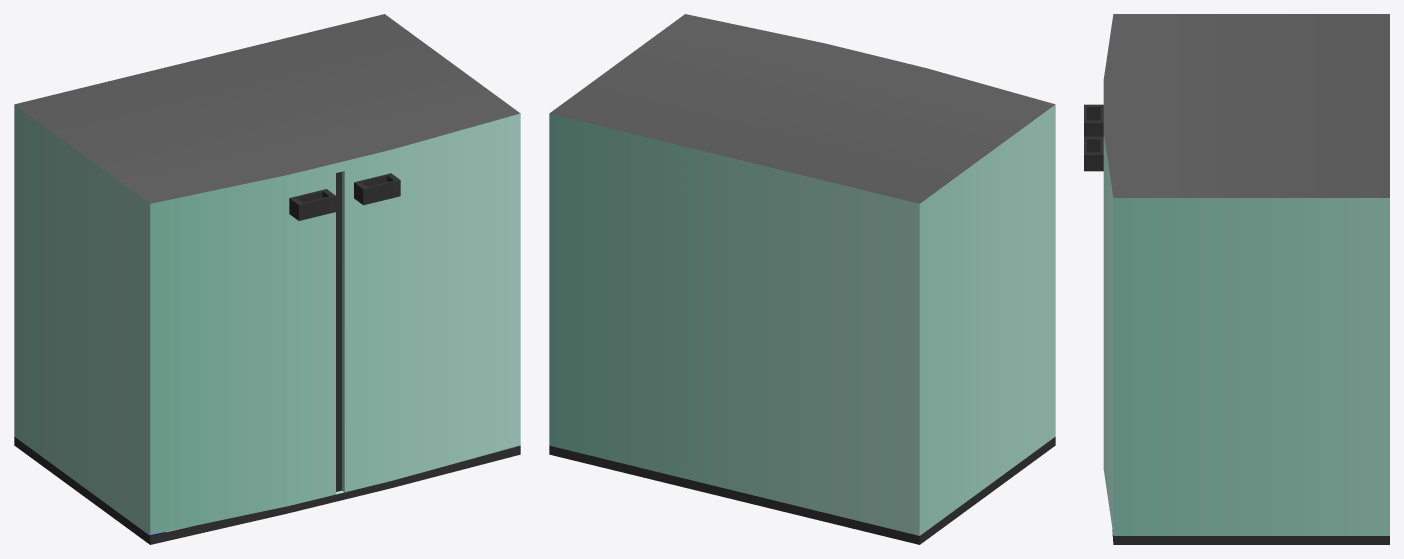
The model's file is Countertop con UV.fbx.
3 views of the same model, side by side, from view 1: azimuth 30°, elevation 25°; view 2: azimuth 150°, elevation 25°; view 3: azimuth 270°, elevation 25° (orthographic).
Visible parts, largest first — view 1: Kitchen table.005; view 2: Kitchen table.005; view 3: Kitchen table.005.
Boxes of the visible parts, x1,y1,x2,y2 form: Kitchen table.005: [14, 14, 520, 544]; Kitchen table.005: [549, 14, 1055, 544]; Kitchen table.005: [1084, 14, 1389, 544].
Bounding box in the file's own units: 492 × 433 × 346.
